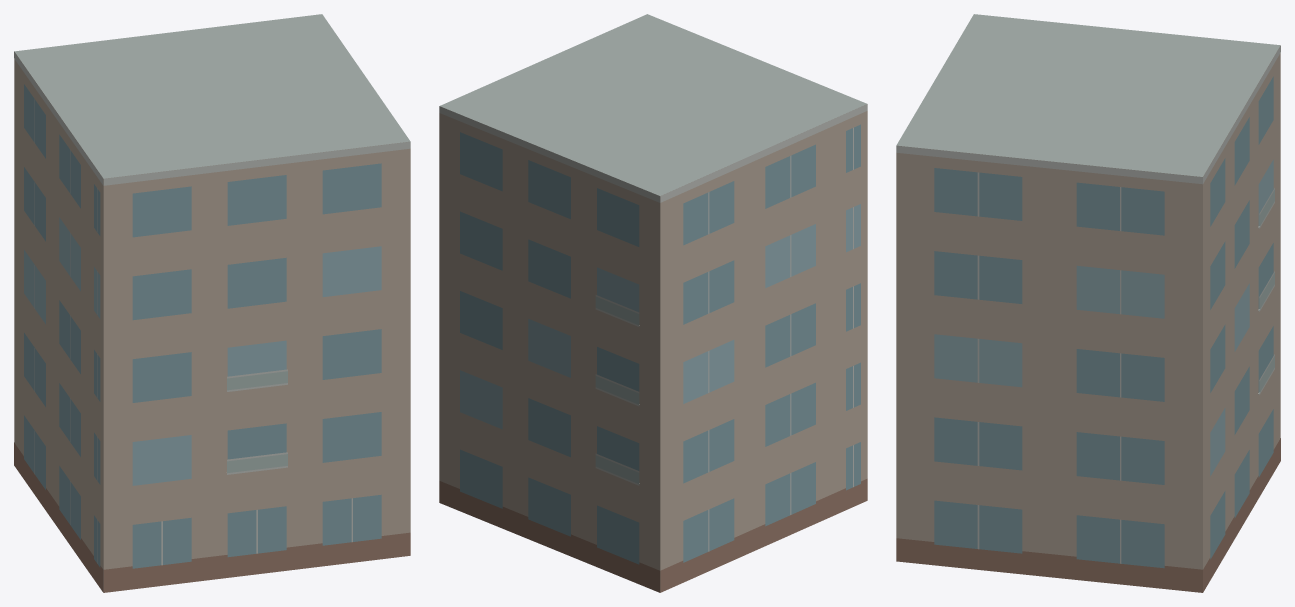
Rendered from survey-upis-32935056.glb.
The picture shows the model from 3 angles, left to right: view 1: azimuth 30°, elevation 25°; view 2: azimuth 150°, elevation 25°; view 3: azimuth 270°, elevation 25°; orthographic projection. The views are drawn at different scales.
Parts seen in each view (by area): view 1: survey-upis-32935056.tmp; view 2: survey-upis-32935056.tmp; view 3: survey-upis-32935056.tmp.
Part boxes in pixels (bbox=[...]): survey-upis-32935056.tmp: bbox=[14, 14, 410, 592]; survey-upis-32935056.tmp: bbox=[439, 14, 867, 592]; survey-upis-32935056.tmp: bbox=[896, 14, 1280, 592].
Size of the model in its own units: 11.87 by 14.1 by 11.83.
